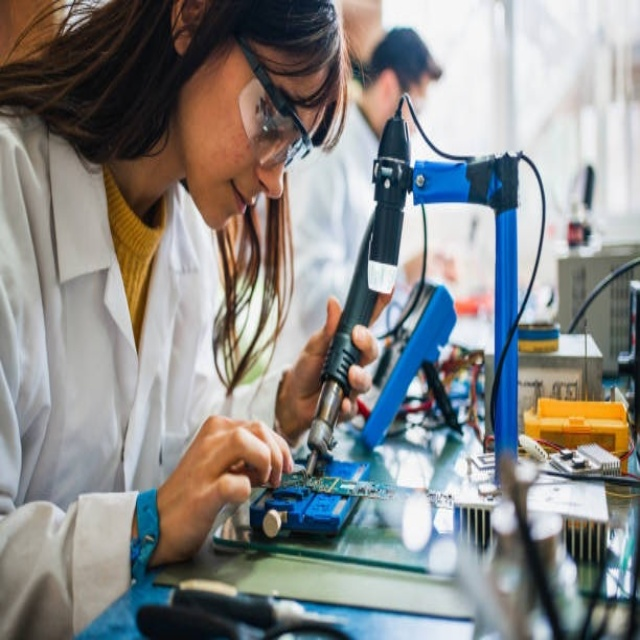Gafas: (234, 31, 317, 171)
Sin_guantes: (151, 416, 289, 567), (276, 293, 378, 441)
Sin_mascara: (207, 174, 280, 235)
